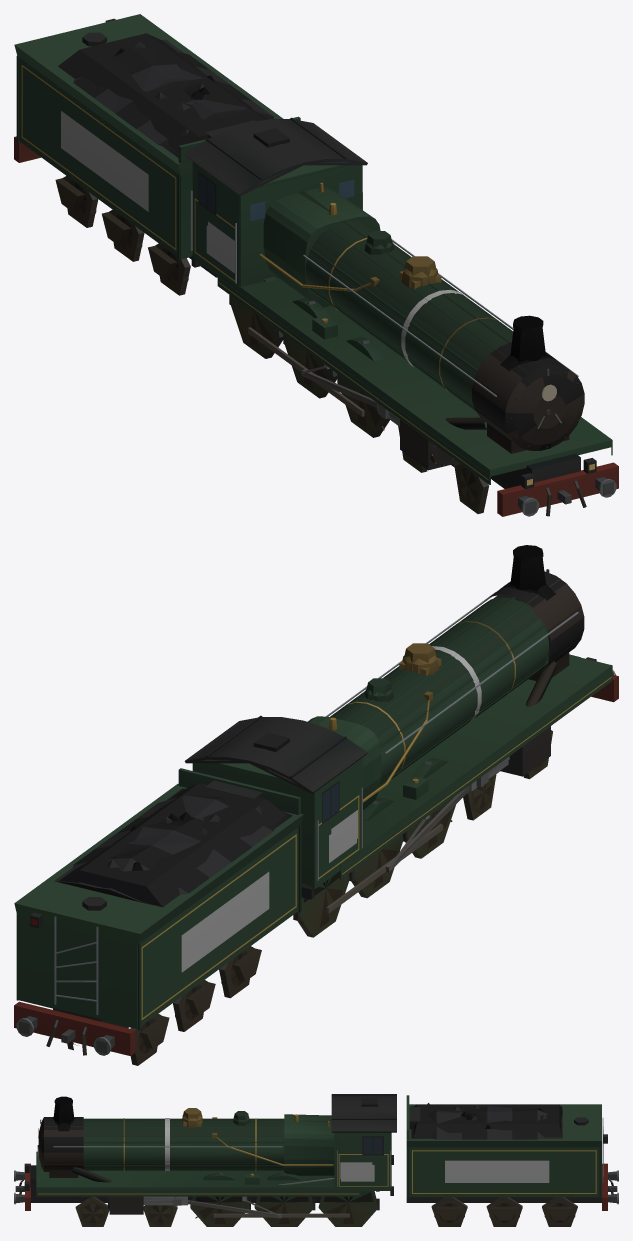
File: train_any_steam_loco.glb
3 renders of one model, top to bottom at view 1: azimuth 30°, elevation 25°; view 2: azimuth 150°, elevation 25°; view 3: azimuth 270°, elevation 25°, orthographic. The views are drawn at different scales.
Parts seen in each view (by area): view 1: train_any_steam_loco_LOD0_mesh, train_any_steam_loco_LOD2_mesh, train_any_steam_loco_LOD1_mesh, train_any_steam_loco_LOD0_cab_roof_mesh, train_any_steam_loco_LOD1_chimney_mesh, train_any_steam_loco_LOD0_chimney_mesh; view 2: train_any_steam_loco_LOD0_mesh, train_any_steam_loco_LOD2_mesh, train_any_steam_loco_LOD1_mesh, train_any_steam_loco_LOD0_cab_roof_mesh, train_any_steam_loco_LOD1_chimney_mesh, train_any_steam_loco_LOD0_chimney_mesh; view 3: train_any_steam_loco_LOD0_mesh, train_any_steam_loco_LOD2_mesh, train_any_steam_loco_LOD1_mesh, train_any_steam_loco_LOD0_cab_roof_mesh, train_any_steam_loco_LOD1_chimney_mesh, train_any_steam_loco_LOD0_chimney_mesh.
Part boxes in pixels (x1,y1,x2,y2): train_any_steam_loco_LOD0_mesh: (16, 18, 618, 516); train_any_steam_loco_LOD2_mesh: (19, 33, 612, 507); train_any_steam_loco_LOD1_mesh: (14, 14, 618, 516); train_any_steam_loco_LOD0_cab_roof_mesh: (185, 117, 367, 195); train_any_steam_loco_LOD1_chimney_mesh: (510, 328, 545, 362); train_any_steam_loco_LOD0_chimney_mesh: (500, 315, 555, 371); train_any_steam_loco_LOD0_mesh: (14, 569, 616, 1055); train_any_steam_loco_LOD2_mesh: (59, 559, 612, 1058); train_any_steam_loco_LOD1_mesh: (14, 578, 618, 1065); train_any_steam_loco_LOD0_cab_roof_mesh: (184, 715, 367, 793); train_any_steam_loco_LOD1_chimney_mesh: (510, 557, 545, 591); train_any_steam_loco_LOD0_chimney_mesh: (500, 545, 556, 602); train_any_steam_loco_LOD0_mesh: (14, 1095, 618, 1226); train_any_steam_loco_LOD2_mesh: (30, 1104, 601, 1226); train_any_steam_loco_LOD1_mesh: (14, 1095, 618, 1226); train_any_steam_loco_LOD0_cab_roof_mesh: (331, 1094, 396, 1132); train_any_steam_loco_LOD1_chimney_mesh: (53, 1104, 74, 1124); train_any_steam_loco_LOD0_chimney_mesh: (54, 1096, 72, 1131).
Bounding box in the file's own units: 2.9 × 4.19 × 19.76.
